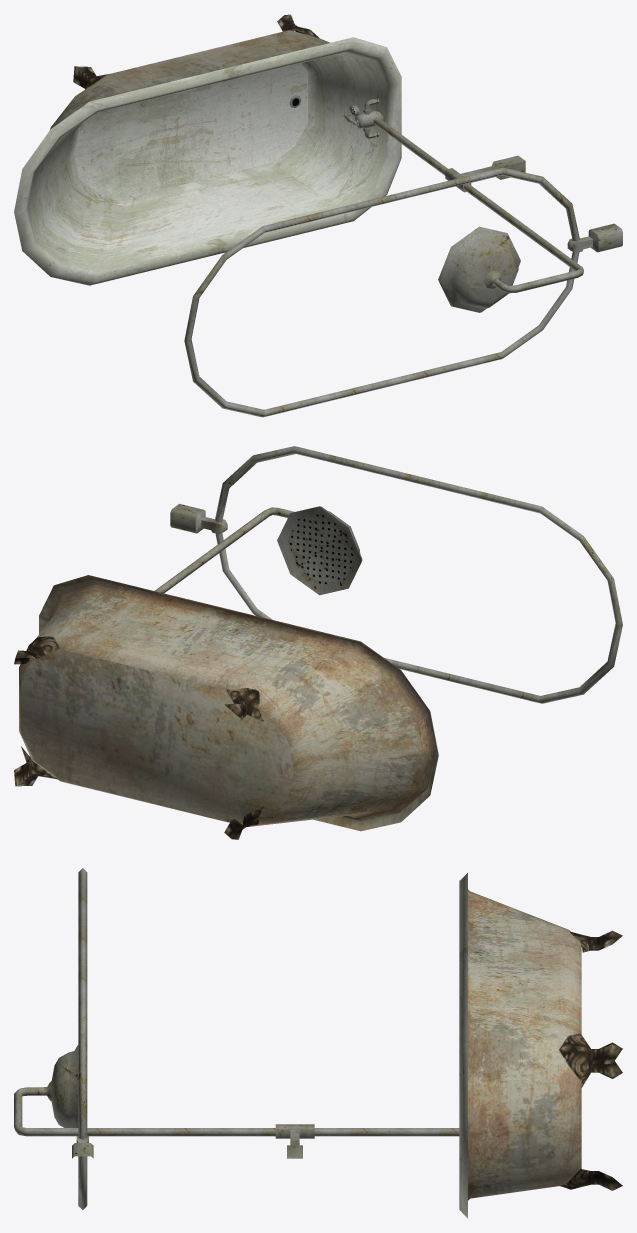
Rendered from furniture_frenchbathtub1.glb.
3 views of the same model, one above another, from view 1: azimuth 30°, elevation 25°; view 2: azimuth 150°, elevation 25°; view 3: azimuth 270°, elevation 25° (orthographic). The views are drawn at different scales.
Size of the model in its own units: 97.71 by 41.2 by 108.
Materials: 2 (2 with a texture image).
